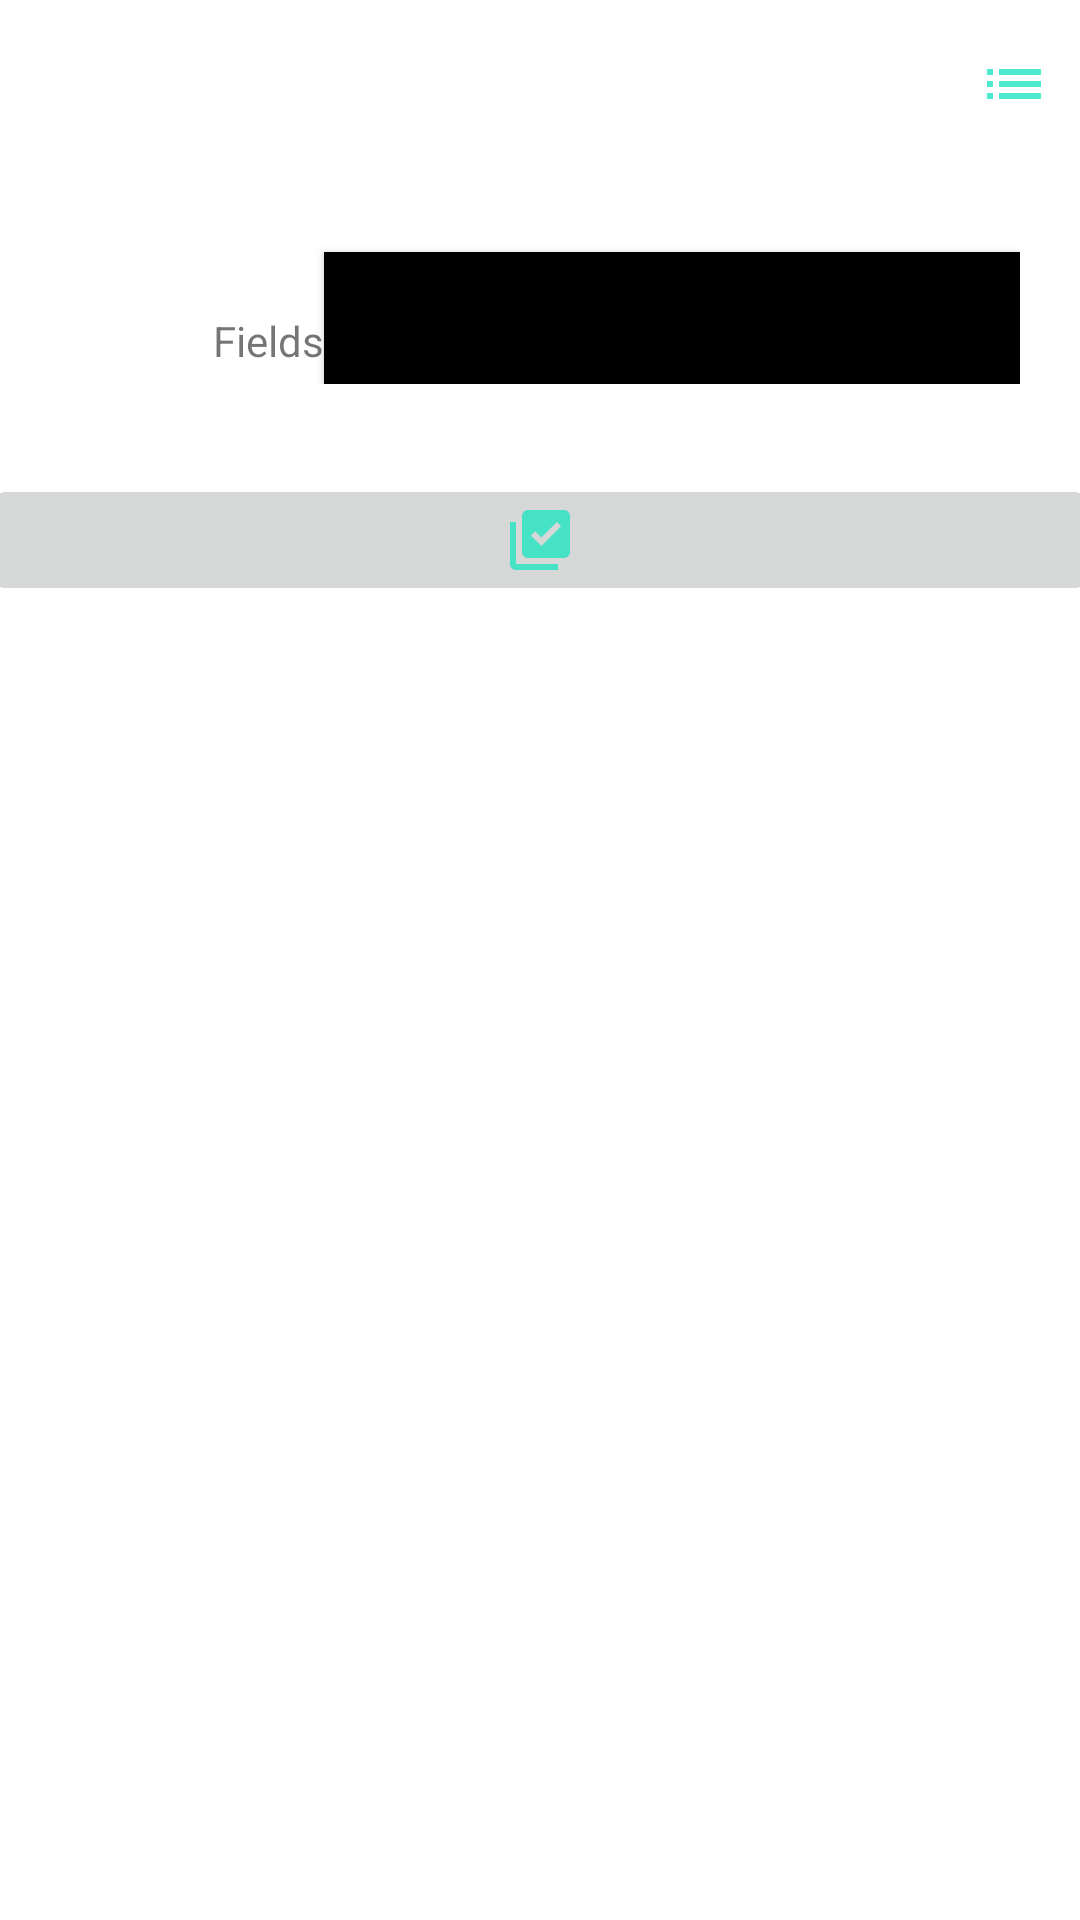

Where icons sit on this 1080w x 1920h app screen, as [x1,y1,x2,y2]:
options: [987,69,1041,99]
